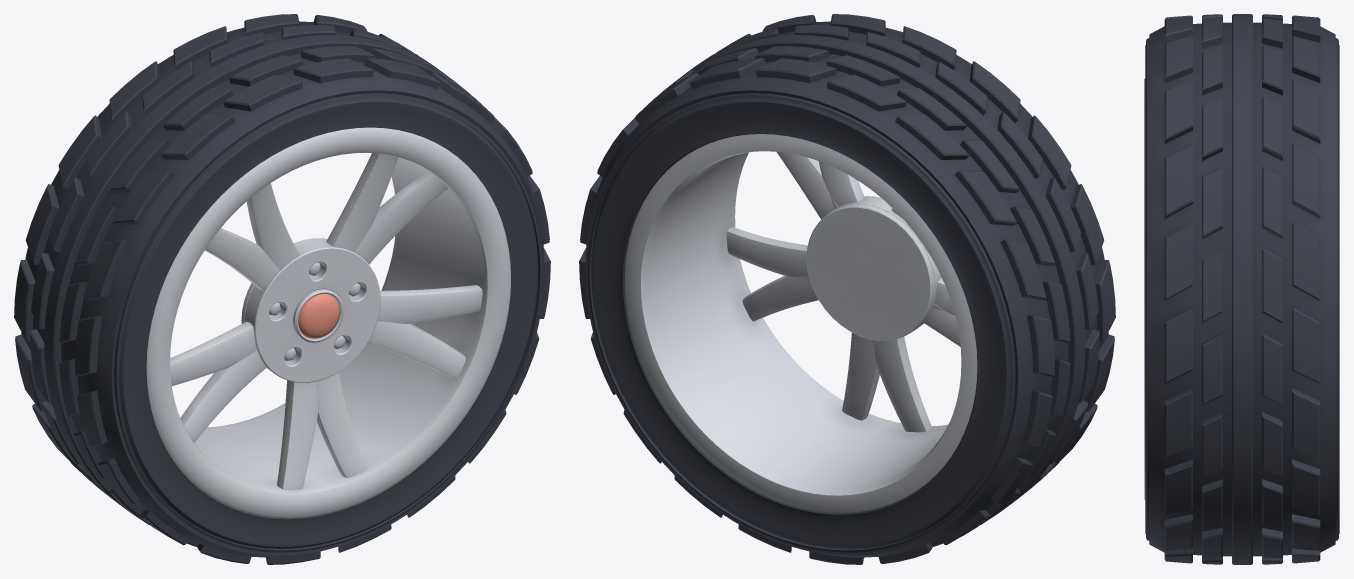
The model's file is alloy-wheel.obj.
The picture shows the model from 3 angles, left to right: view 1: azimuth 30°, elevation 25°; view 2: azimuth 150°, elevation 25°; view 3: azimuth 270°, elevation 25°; orthographic projection. The views are drawn at different scales.
Parts seen in each view (by area): view 1: alloy-wheel_body; view 2: alloy-wheel_body; view 3: alloy-wheel_body.
Part boxes in pixels (x1,y1,x2,y2): alloy-wheel_body: (14,14,550,564); alloy-wheel_body: (579,14,1115,564); alloy-wheel_body: (1144,14,1339,564).
Bounding box in the file's own units: 0.6377 × 0.6377 × 0.2261.
Materials: 1 (1 with a texture image).
